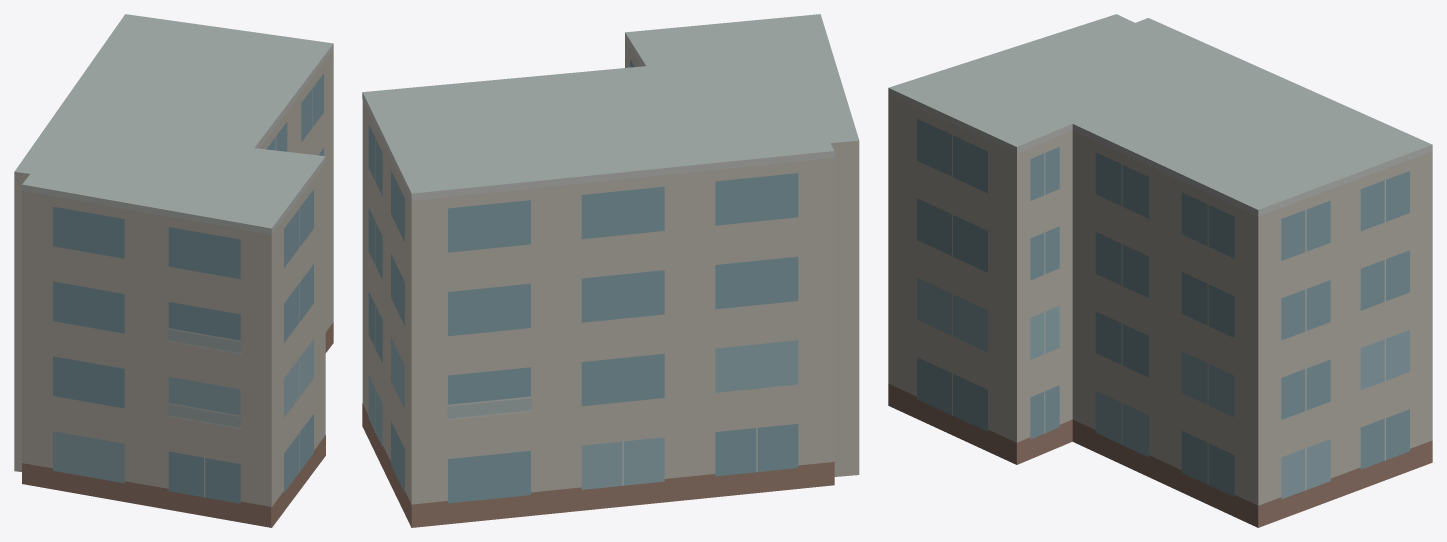
The model's file is survey-upis-32594858.glb.
3 renders of one model, left to right at view 1: azimuth 30°, elevation 25°; view 2: azimuth 150°, elevation 25°; view 3: azimuth 270°, elevation 25°, orthographic. The views are drawn at different scales.
Visible parts, largest first — view 1: survey-upis-32594858.tmp; view 2: survey-upis-32594858.tmp; view 3: survey-upis-32594858.tmp.
Boxes of the visible parts, x1,y1,x2,y2 form: survey-upis-32594858.tmp: (14,14,333,527); survey-upis-32594858.tmp: (362,14,859,527); survey-upis-32594858.tmp: (888,14,1432,527).
Bounding box in the file's own units: 15.48 × 11.7 × 18.17.
